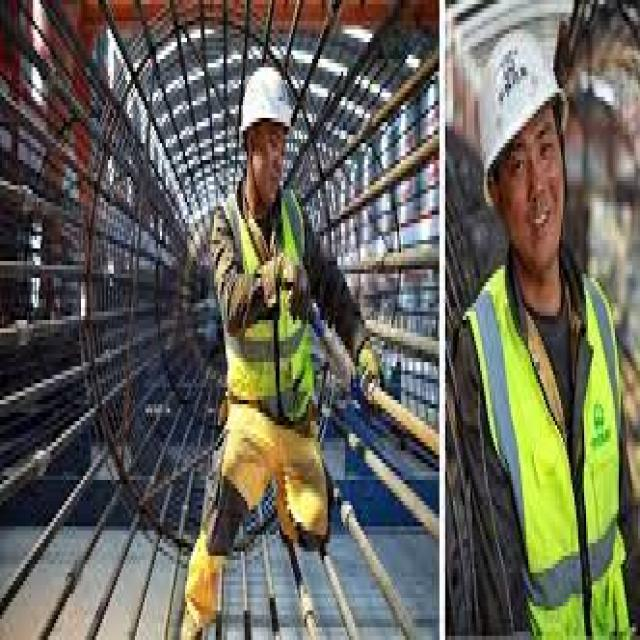Reflective-Jacket: (461, 269, 636, 636), (212, 177, 324, 442)
Safety-Helmet: (476, 25, 569, 168), (235, 59, 297, 139)
